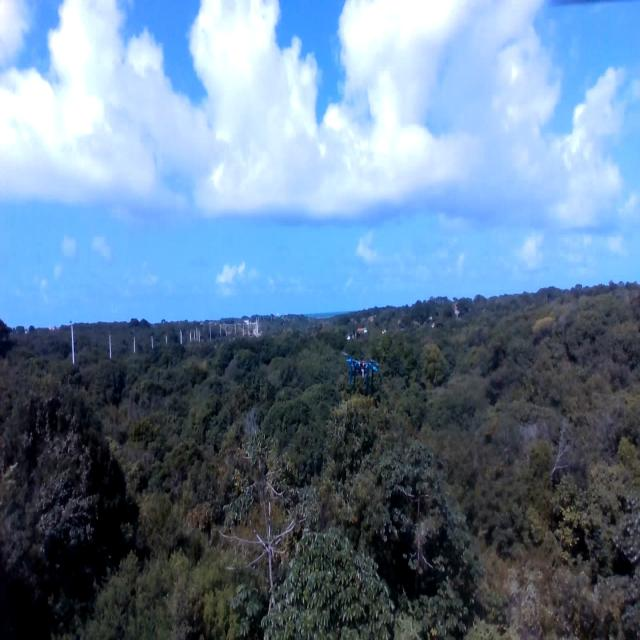-uav-: (337, 344, 387, 404)
